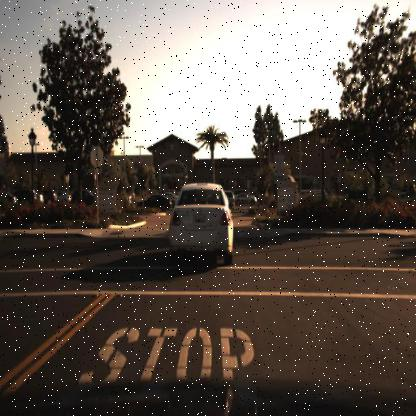car: (166, 182, 238, 270), (139, 194, 175, 215), (70, 187, 97, 208), (221, 186, 237, 210), (233, 192, 256, 208), (232, 189, 256, 203)
